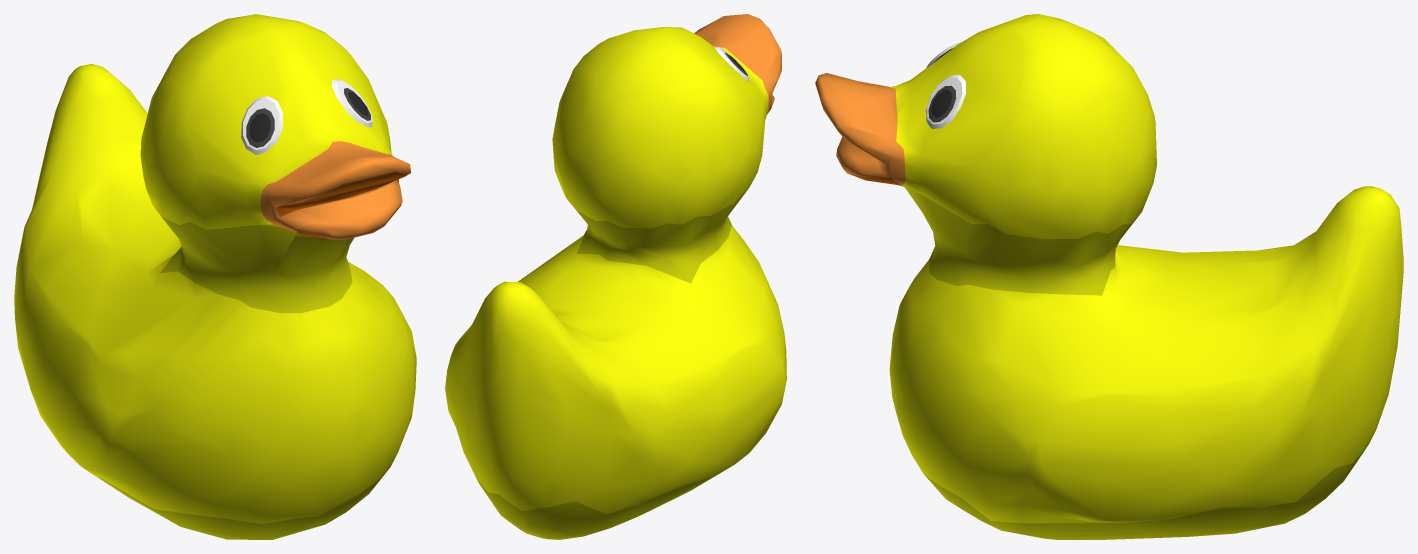
Rendered from BathDuck.fbx.
3 views of the same model, side by side, from view 1: azimuth 30°, elevation 25°; view 2: azimuth 150°, elevation 25°; view 3: azimuth 270°, elevation 25° (orthographic). The views are drawn at different scales.
Parts seen in each view (by area): view 1: Sphere03; view 2: Sphere03; view 3: Sphere03.
Boxes of the visible parts, x1=… form: Sphere03: x1=14, y1=14, x2=416, y2=539; Sphere03: x1=445, y1=14, x2=786, y2=539; Sphere03: x1=815, y1=14, x2=1403, y2=539.
Bounding box in the file's own units: 150 × 249 × 233.
1 material, 1 textured.
